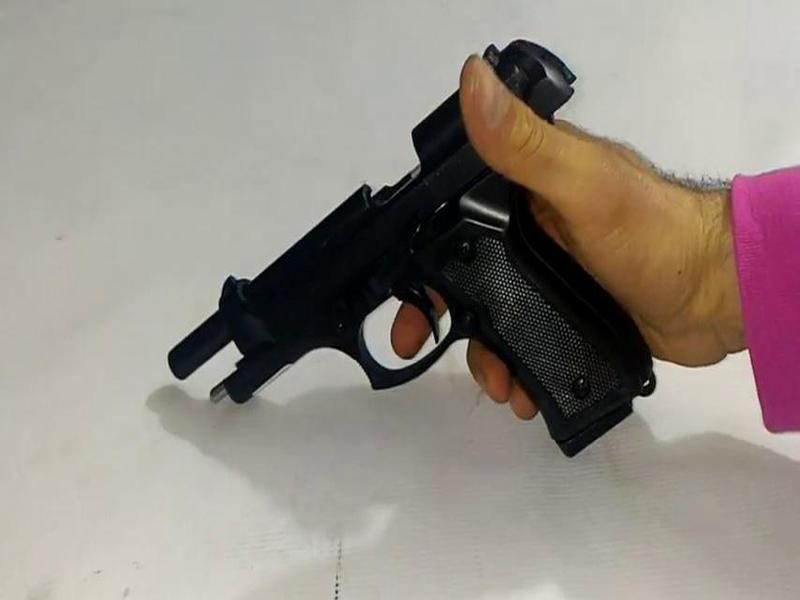Pistola: (156, 22, 688, 477)
